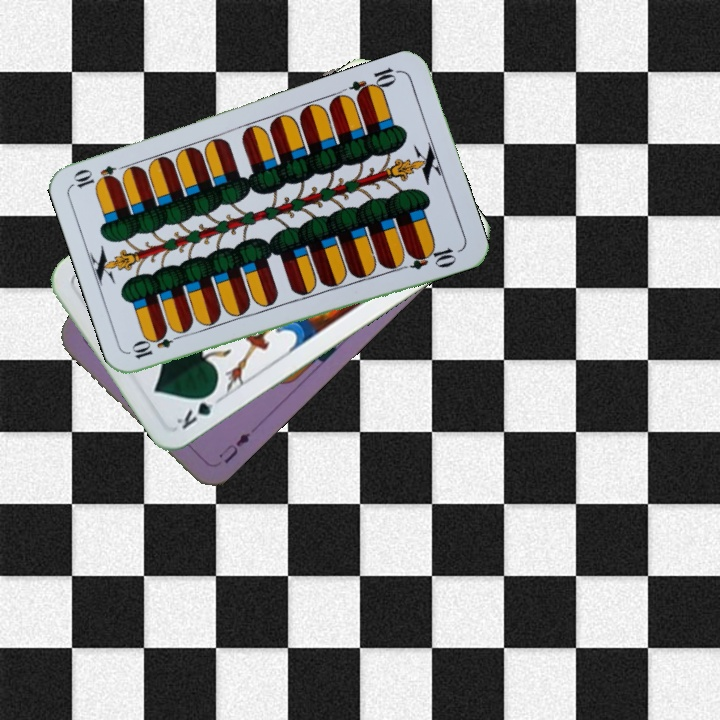E10: (346, 63, 403, 102), (128, 328, 186, 362)
EU: (214, 428, 252, 466)
GK: (172, 386, 225, 433)
